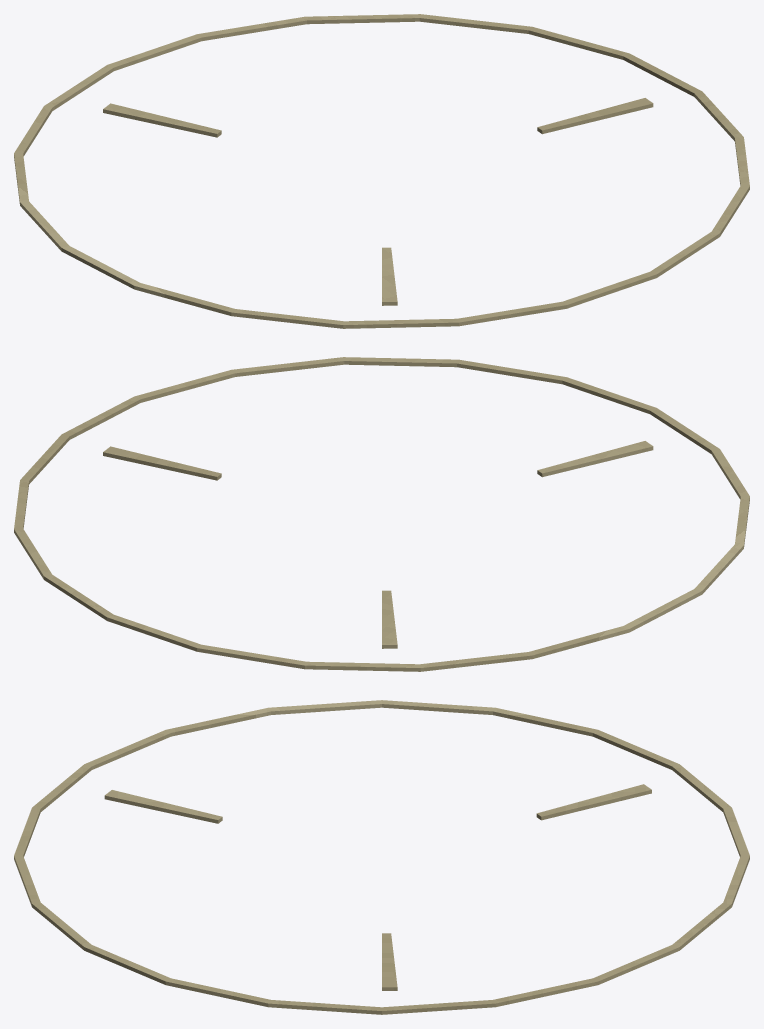
File: level_castle_training_banishment.glb
3 views of the same model, one above another, from view 1: azimuth 30°, elevation 25°; view 2: azimuth 150°, elevation 25°; view 3: azimuth 270°, elevation 25° (orthographic).
Parts seen in each view (by area): view 1: Training floor inlay banishment; view 2: Training floor inlay banishment; view 3: Training floor inlay banishment.
Boxes of the visible parts, <box> form: Training floor inlay banishment: <box>14,14,749,328</box>; Training floor inlay banishment: <box>14,357,749,671</box>; Training floor inlay banishment: <box>14,700,749,1014</box>.
Size of the model in its own units: 1.44 by 0.008 by 1.44.
1 material, 1 textured.
